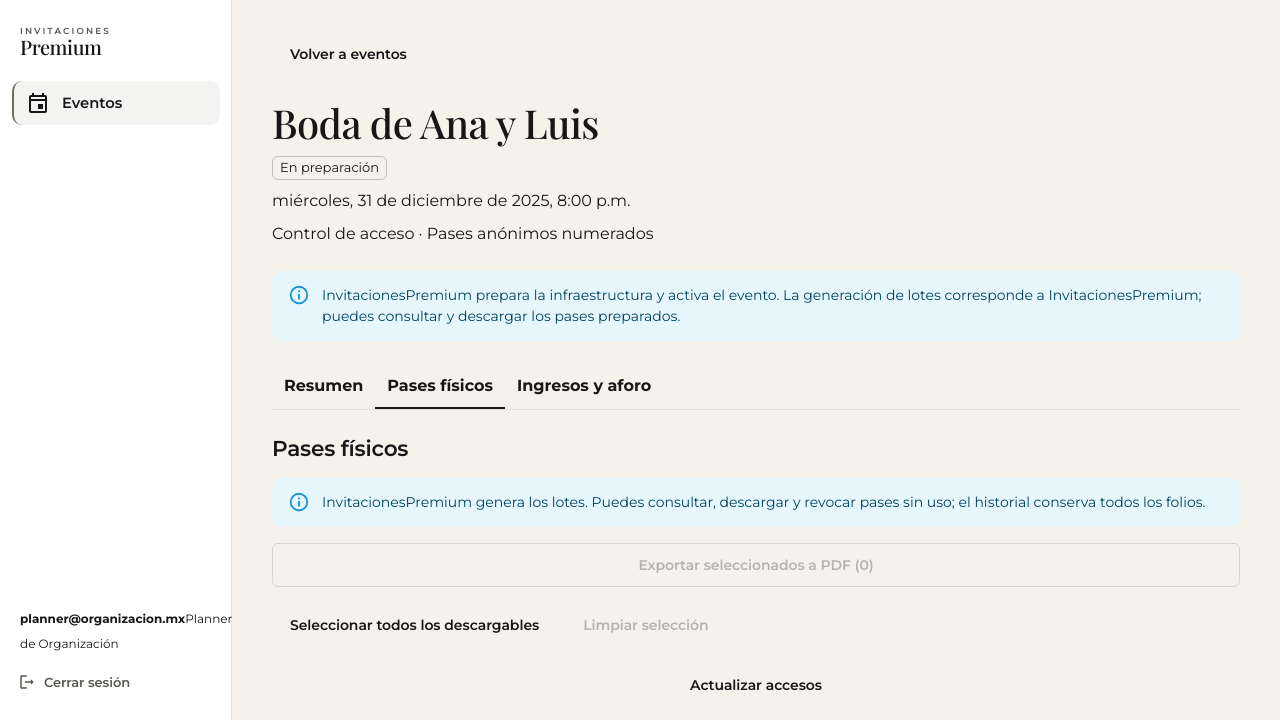
Test: ACCESS_CONTROL Client workspace › revalidates all-selected material before PDF and removes invalid access without producing a PDF
What coordinates should you click on to do the following:
click the button "Seleccionar todos los descargables"
I would click on:
 (415, 625)
Its box is 272,603 -> 557,647.
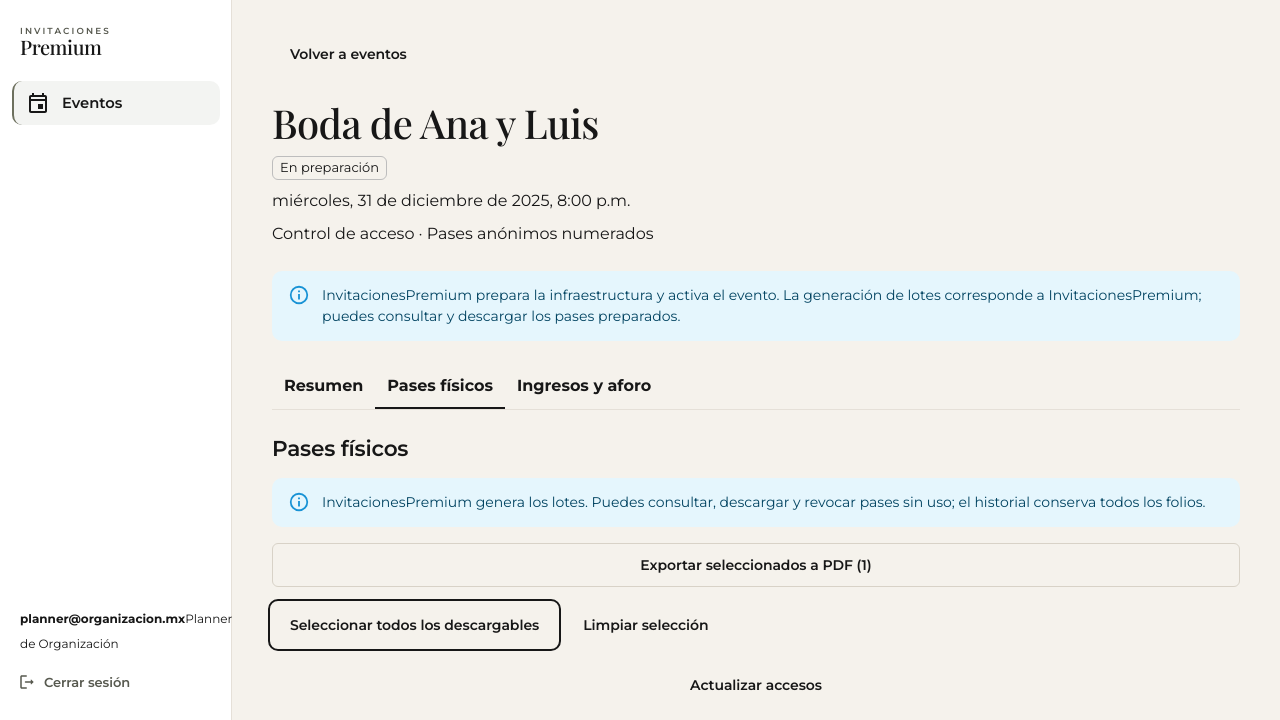
What coordinates should you click on to do the following:
click the button "Exportar seleccionados a PDF (1)"
I would click on:
 (756, 565)
Its box is 272,543 -> 1240,587.
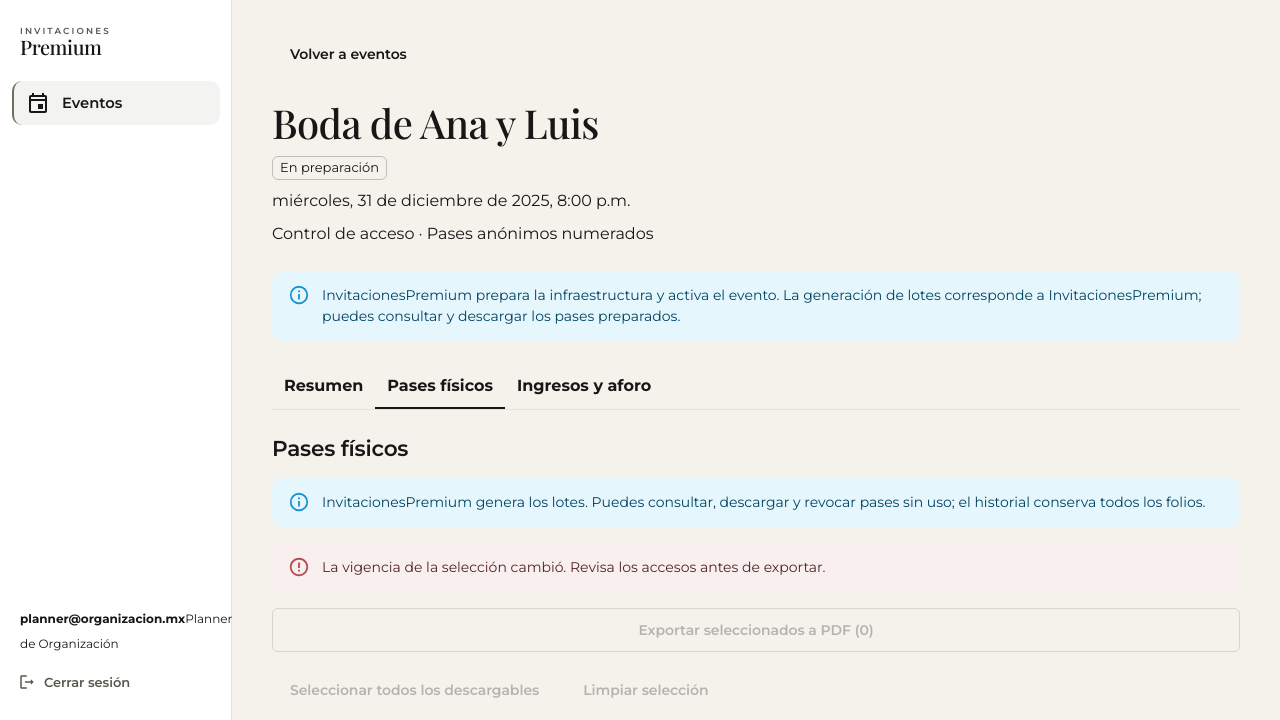
expect the text "La vigencia de la selección cambió. Revisa los accesos antes de exportar." is shown: met, box 322,558 -> 826,576
expect the button "Exportar seleccionados a PDF (0)" is disabled: met, box 272,608 -> 1240,652
